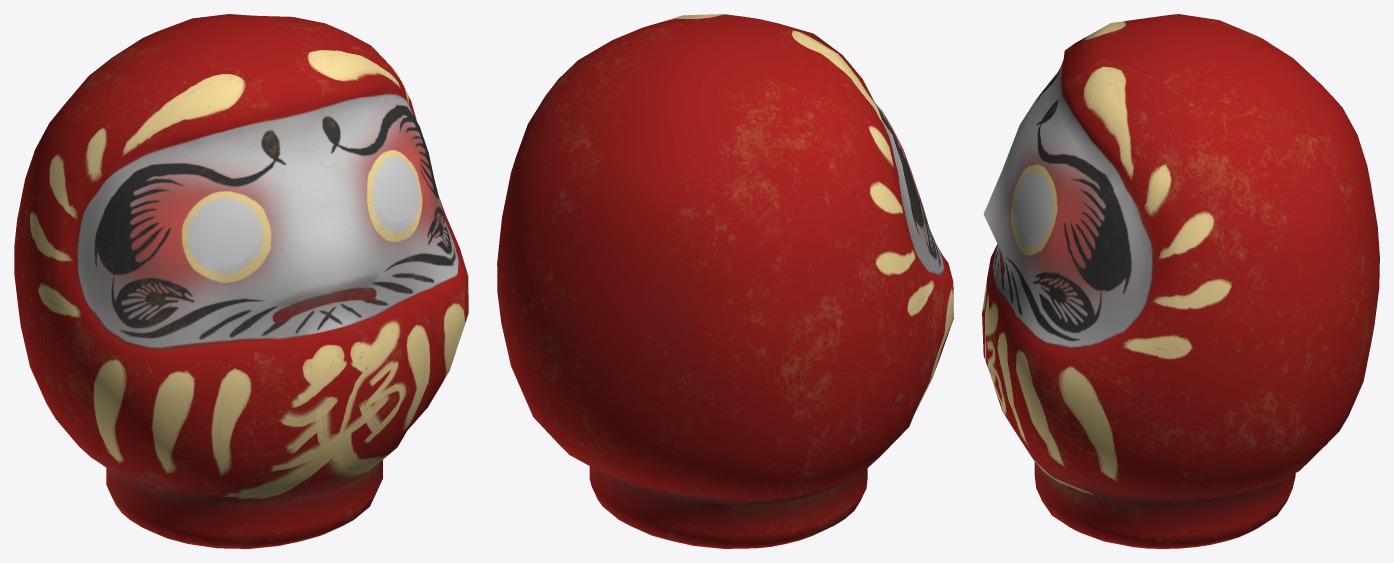
Rendered from oneeye.glb.
The picture shows the model from 3 angles, left to right: view 1: azimuth 30°, elevation 25°; view 2: azimuth 150°, elevation 25°; view 3: azimuth 270°, elevation 25°; orthographic projection.
Parts seen in each view (by area): view 1: Daruma_low; view 2: Daruma_low; view 3: Daruma_low.
Part boxes in pixels (x1,y1,x2,y2): Daruma_low: (14,14,468,548); Daruma_low: (497,14,953,548); Daruma_low: (982,14,1379,548).
Size of the model in its own units: 33.11 by 38.13 by 29.93.
Materials: 1 (1 with a texture image).
